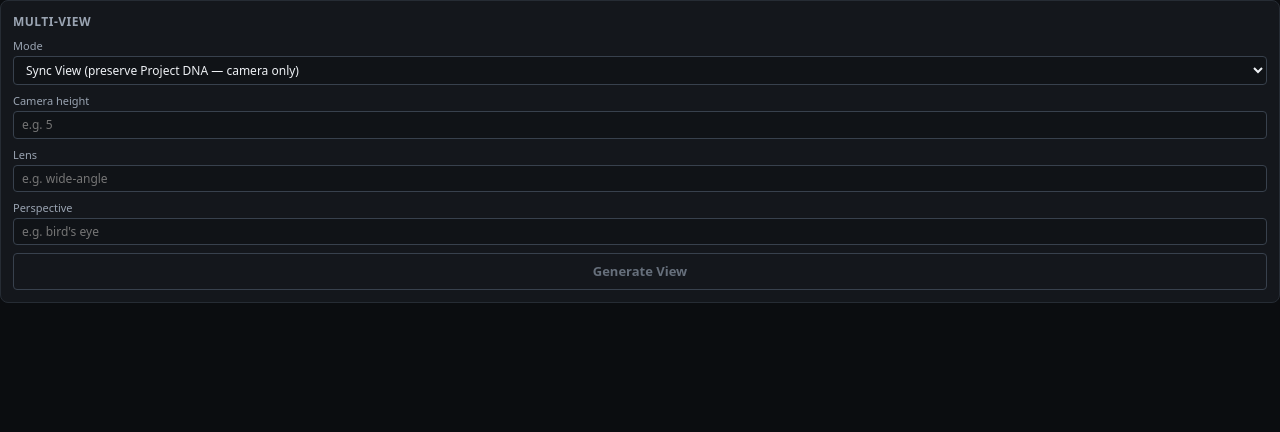
MultiViewPanel — BUILD 15 Multi-View / Sync / Creative View › real view generation flow against apps/api › shows the real error envelope, not a fake result, when the view request fails
In the field labelled "Perspective": (640, 232) [13,218,1267,245], type "bird's eye"
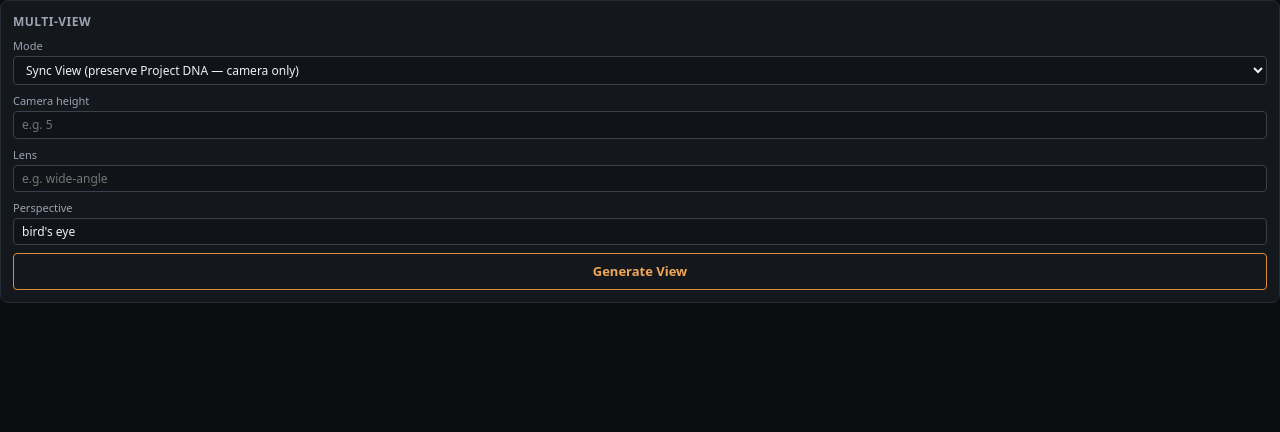
Click the button "Generate View": (640, 272) [13,253,1267,290]
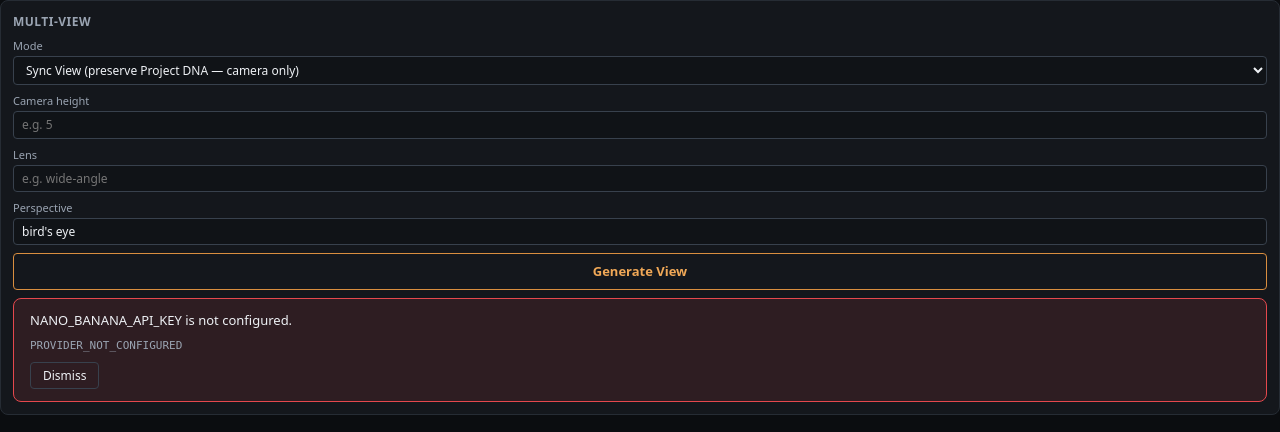
Check: the message shows "NANO_BANANA_API_KEY is not configured.", box [30,311,292,329]
